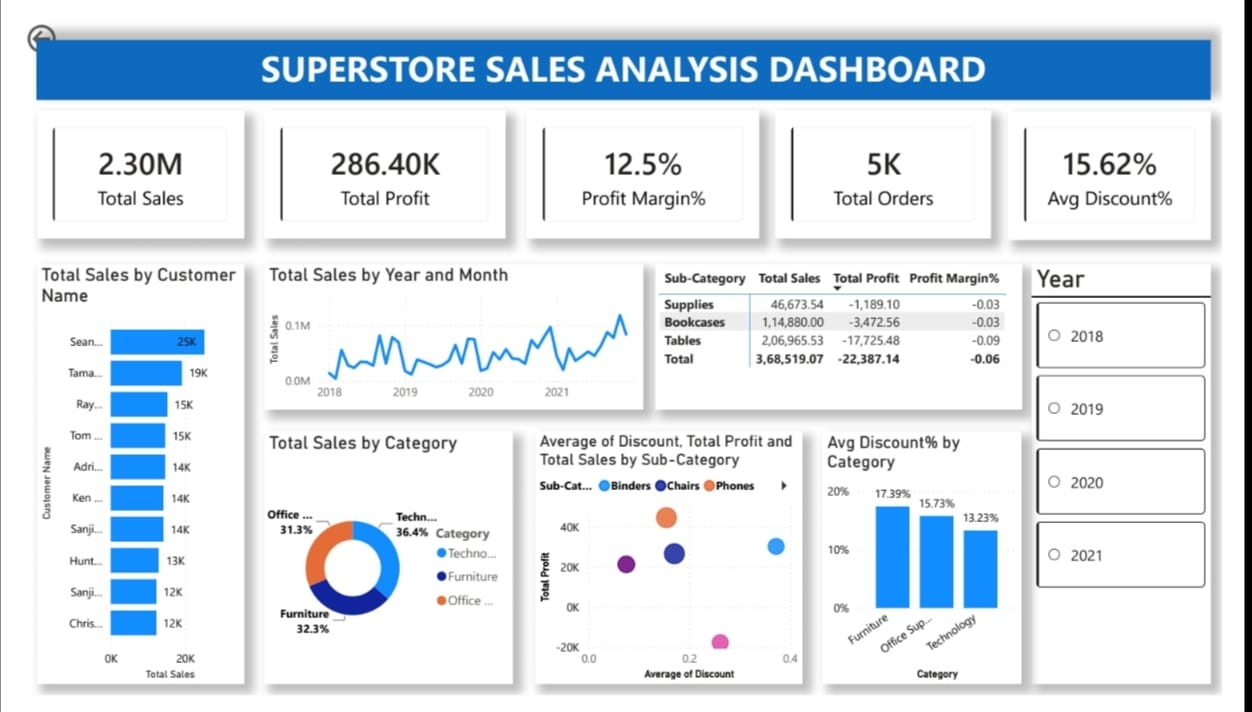

Layout of this report page (visuals, bound fields, positions):
{"tool":"powerbi","page":{"name":"Page 1","canvas":[1280,720],"ordinal":0},"visuals":[{"type":"cardVisual","fields":{"Data":["Orders.Total Sales"]},"box":[15.1,97.4,220.9,135.8],"z":0},{"type":"cardVisual","fields":{"Data":["Orders.Total Profit"]},"box":[258,97.4,256.6,135.8],"z":1000},{"type":"cardVisual","fields":{"Data":["Orders.Profit Margin%"]},"box":[537.9,97.4,248.4,135.8],"z":2000},{"type":"cardVisual","fields":{"Data":["Orders.Total Orders"]},"box":[802.7,97.4,230.5,135.8],"z":3000},{"type":"lineChart","fields":{"Y":["Orders.Total Sales"],"Category":["Orders.Order Date.Variation.Date Hierarchy.Year","Orders.Order Date.Variation.Date Hierarchy.Month"]},"box":[258,260.5,403.5,154.1],"z":4000},{"type":"clusteredBarChart","fields":{"Category":["Orders.Customer Name"],"Y":["Orders.Total Sales"]},"box":[14.6,260.5,221,447.8],"z":5000},{"type":"donutChart","fields":{"Category":["Orders.Category"],"Y":["Orders.Total Sales"]},"box":[258,439,265.4,269],"z":6000},{"type":"scatterChart","fields":{"Y":["Orders.Total Profit"],"Size":["Orders.Total Sales"],"Series":["Orders.Sub-Category"],"X":["Avg(Orders.Discount)"]},"box":[546.6,439,284.9,269],"z":7000},{"type":"pivotTable","fields":{"Rows":["Orders.Sub-Category"],"Values":["Orders.Total Sales","Orders.Total Profit","Orders.Profit Margin%"]},"box":[675,260.5,391.3,154.1],"z":8000},{"type":"actionButton","box":[0,0,100,40],"z":9000},{"type":"advancedSlicerVisual","fields":{"Values":["Orders.Order Date.Variation.Date Hierarchy.Year"]},"box":[1077.3,260.5,190.8,447.6],"z":10000},{"type":"textbox","box":[15.1,20.6,1252.8,64.5],"z":11000},{"type":"columnChart","fields":{"Category":["Orders.Category"],"Y":["Orders.Avg Discount%"]},"box":[853.5,439,212.8,269],"z":12000},{"type":"cardVisual","fields":{"Data":["Orders.Avg Discount%"]},"box":[1051.6,96.6,216.4,137],"z":13000}]}

Visuals, with their boxes in screenshot pixels (x1, y1, x2, y2), scaled from the page's 1280x720 canvas onto the 1252x712 screenshot:
cardVisual - Orders.Total Sales: select_region(15, 96, 231, 231)
cardVisual - Orders.Total Profit: select_region(252, 96, 503, 231)
cardVisual - Orders.Profit Margin%: select_region(526, 96, 769, 231)
cardVisual - Orders.Total Orders: select_region(785, 96, 1011, 231)
lineChart - Orders.Total Sales x Orders.Order Date.Variation.Date Hierarchy.Year: select_region(252, 258, 647, 410)
clusteredBarChart - Orders.Customer Name x Orders.Total Sales: select_region(14, 258, 230, 700)
donutChart - Orders.Category x Orders.Total Sales: select_region(252, 434, 512, 700)
scatterChart - Orders.Total Profit x Orders.Total Sales: select_region(535, 434, 813, 700)
pivotTable - Orders.Sub-Category x Orders.Total Sales: select_region(660, 258, 1043, 410)
actionButton: select_region(0, 0, 98, 40)
advancedSlicerVisual - Orders.Order Date.Variation.Date Hierarchy.Year: select_region(1054, 258, 1240, 700)
textbox: select_region(15, 20, 1240, 84)
columnChart - Orders.Category x Orders.Avg Discount%: select_region(835, 434, 1043, 700)
cardVisual - Orders.Avg Discount%: select_region(1029, 96, 1240, 231)
